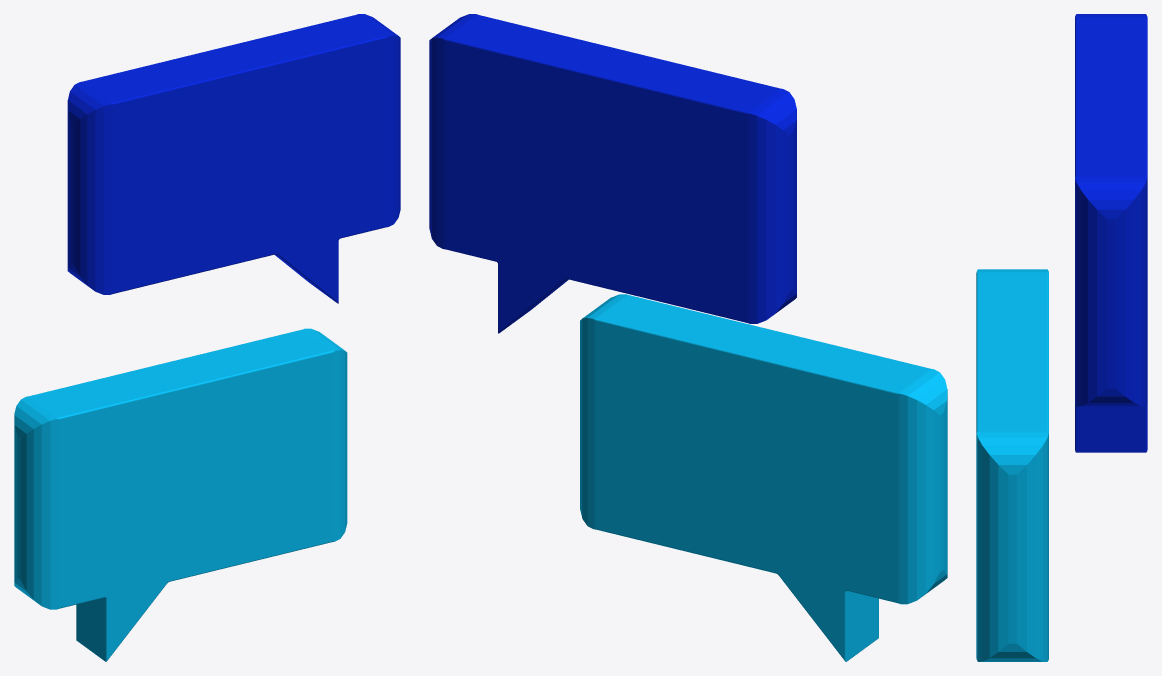
Rendered from Bubbles.gltf.
The picture shows the model from 3 angles, left to right: view 1: azimuth 30°, elevation 25°; view 2: azimuth 150°, elevation 25°; view 3: azimuth 270°, elevation 25°; orthographic projection. The views are drawn at different scales.
Visible parts, largest first — view 1: bot, top; view 2: bot, top; view 3: top, bot.
Boxes of the visible parts, x1,y1,x2,y2 form: bot: (14, 328, 347, 661); top: (67, 14, 400, 303); bot: (580, 294, 947, 661); top: (429, 14, 796, 333); top: (1075, 14, 1147, 452); bot: (976, 269, 1048, 661).
Size of the model in its own units: 3.35 by 3.96 by 1.
